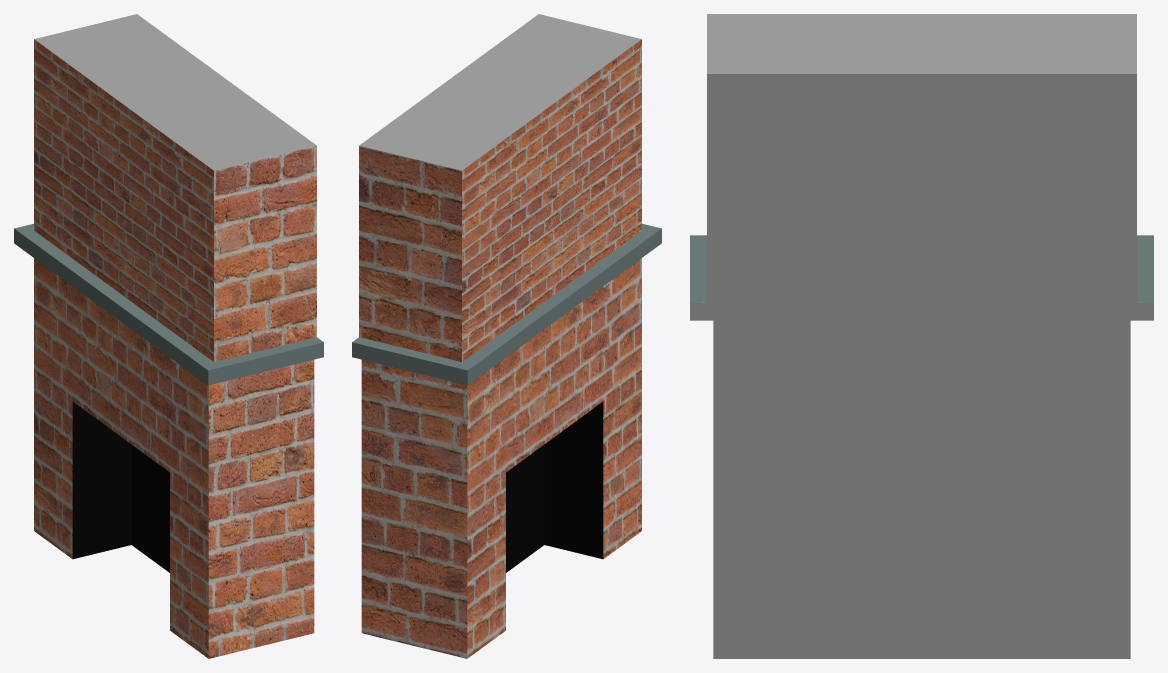
File: Chimenea3.fbx
The picture shows the model from 3 angles, left to right: view 1: azimuth 30°, elevation 25°; view 2: azimuth 150°, elevation 25°; view 3: azimuth 270°, elevation 25°; orthographic projection. The views are drawn at different scales.
Visible parts, largest first — view 1: polySurface61; view 2: polySurface61; view 3: polySurface61.
Boxes of the visible parts, x1,y1,x2,y2 form: polySurface61: (14,14,323,658); polySurface61: (352,14,661,658); polySurface61: (690,14,1153,658).
Size of the model in its own units: 2.85 by 11.49 by 8.26.
Materials: 4 (1 with a texture image).
